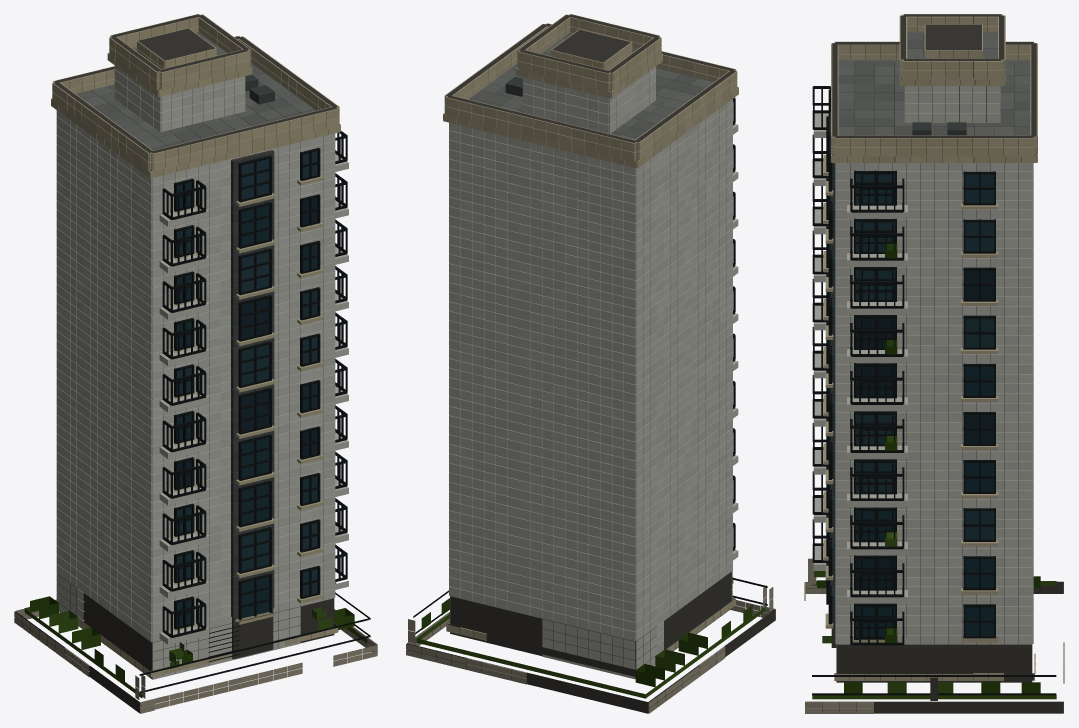
The model's file is SM_StreetFrontage_072.fbx.
3 views of the same model, side by side, from view 1: azimuth 30°, elevation 25°; view 2: azimuth 150°, elevation 25°; view 3: azimuth 270°, elevation 25° (orthographic). The views are drawn at different scales.
Parts seen in each view (by area): view 1: SM_StreetFrontage_072; view 2: SM_StreetFrontage_072; view 3: SM_StreetFrontage_072.
Part boxes in pixels (x1,y1,x2,y2): SM_StreetFrontage_072: (14,14,377,713); SM_StreetFrontage_072: (406,14,775,713); SM_StreetFrontage_072: (804,14,1064,713).
Size of the model in its own units: 14 by 12.78 by 33.13.
